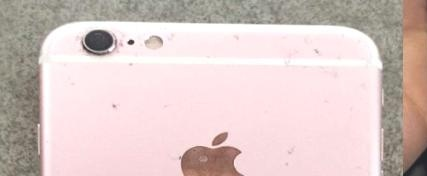scratch: (52, 16, 375, 73), (159, 124, 250, 176), (281, 118, 308, 176), (95, 89, 128, 126)
